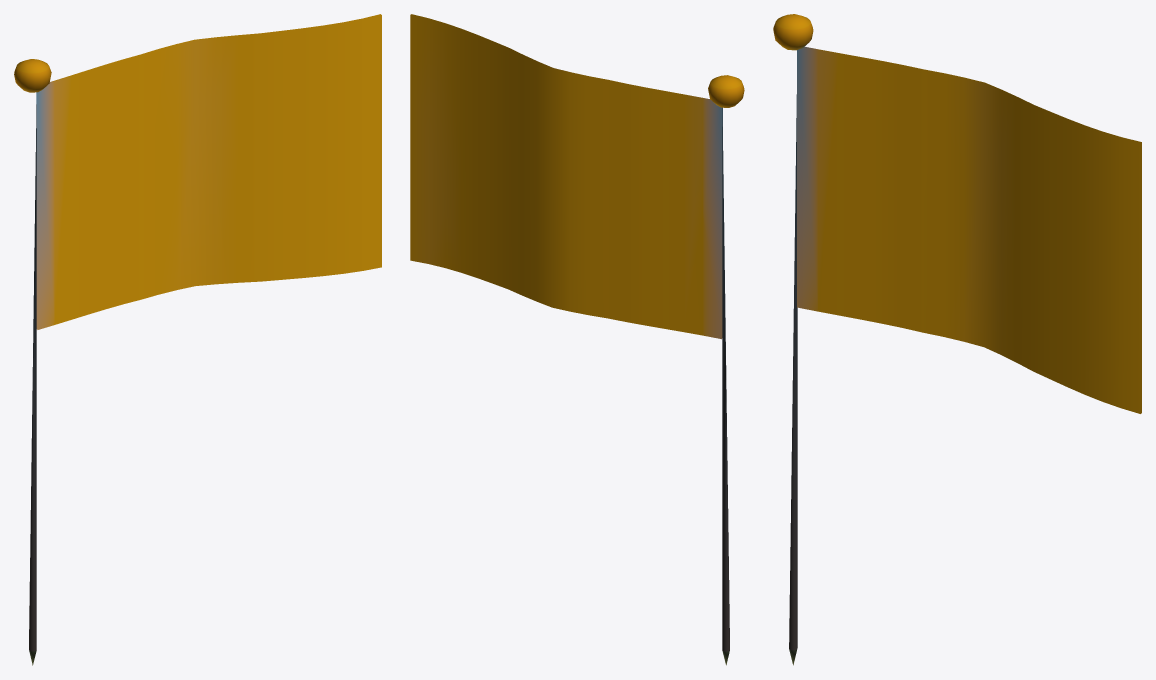
The model's file is flag_lo.glb.
The picture shows the model from 3 angles, left to right: view 1: azimuth 30°, elevation 25°; view 2: azimuth 150°, elevation 25°; view 3: azimuth 330°, elevation 25°; orthographic projection. The views are drawn at different scales.
Visible parts, largest first — view 1: flag, pin; view 2: flag, pin; view 3: flag, pin.
Boxes of the visible parts, x1,y1,x2,y2 form: flag: (36,14,381,329); pin: (14,59,51,665); flag: (410,14,722,339); pin: (708,75,744,665); flag: (797,46,1141,413); pin: (773,14,813,665).
Bounding box in the file's own units: 0.3184 × 0.5215 × 0.0347.
